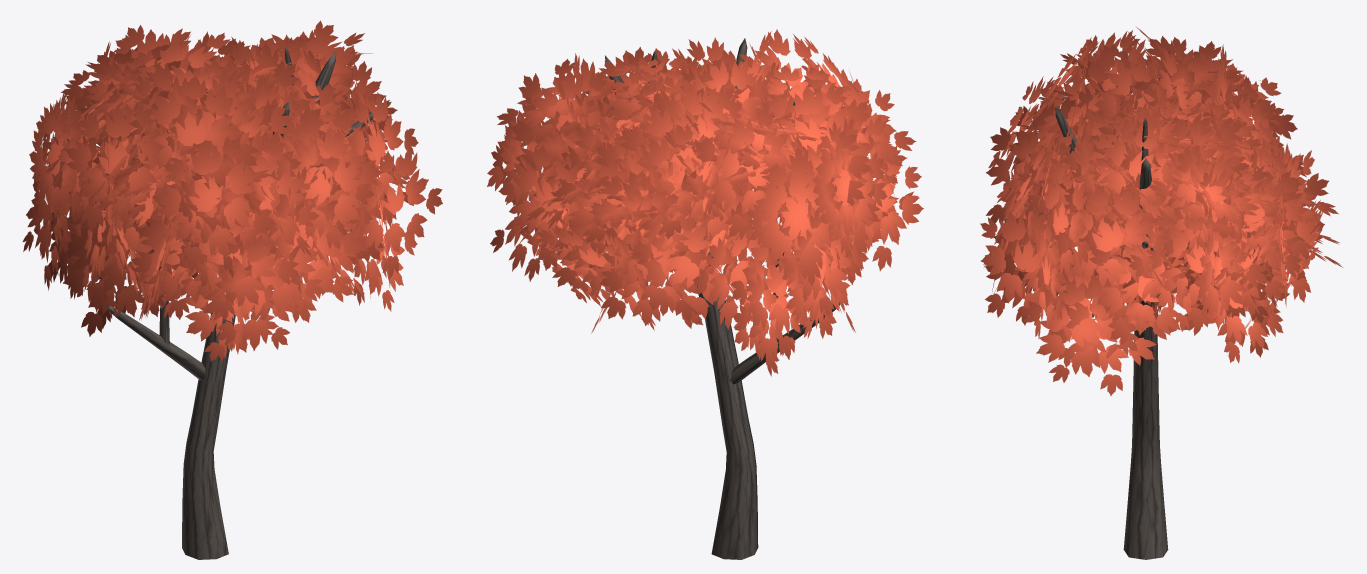
Rendered from MapleTree_4.gltf.
3 views of the same model, side by side, from view 1: azimuth 30°, elevation 25°; view 2: azimuth 150°, elevation 25°; view 3: azimuth 270°, elevation 25° (orthographic). The views are drawn at different scales.
Parts seen in each view (by area): view 1: MapleTree_4; view 2: MapleTree_4; view 3: MapleTree_4.
Boxes of the visible parts, bbox=[...] form: MapleTree_4: bbox=[22, 20, 442, 559]; MapleTree_4: bbox=[487, 29, 923, 559]; MapleTree_4: bbox=[980, 27, 1342, 559].
Bounding box in the file's own units: 2.77 × 3.59 × 2.43.
Materials: 2 (2 with a texture image).
